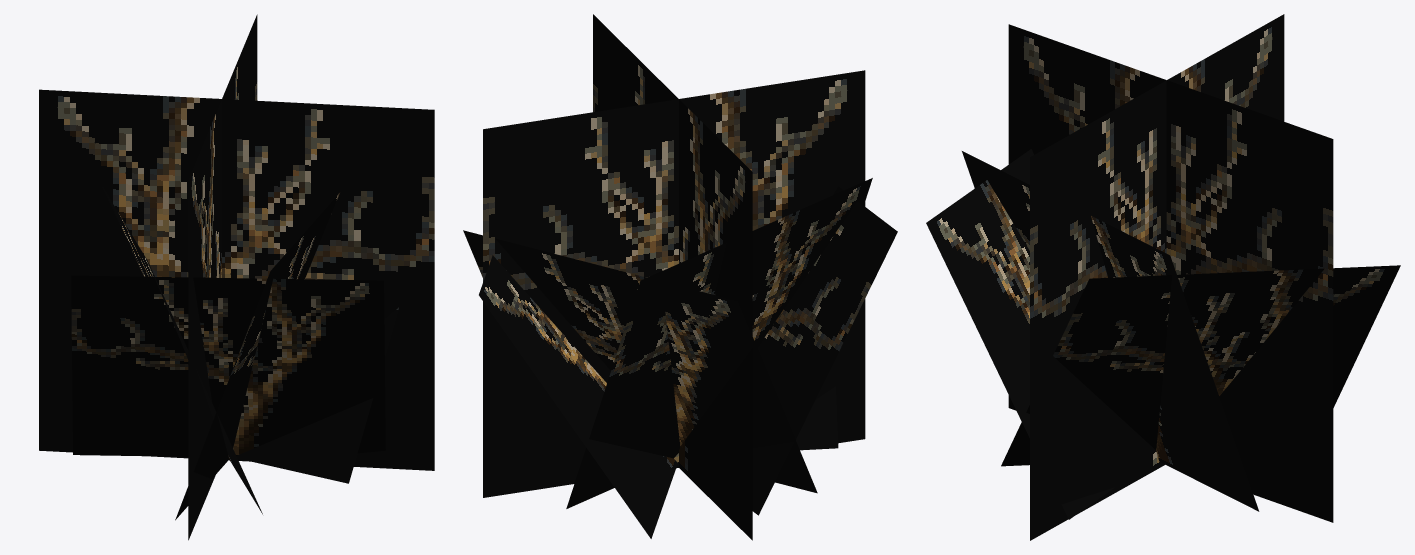
Rendered from sbushnak_0.obj.
The picture shows the model from 3 angles, left to right: view 1: azimuth 30°, elevation 25°; view 2: azimuth 150°, elevation 25°; view 3: azimuth 270°, elevation 25°; orthographic projection. The views are drawn at different scales.
Parts seen in each view (by area): view 1: sbushnak_0; view 2: sbushnak_0; view 3: sbushnak_0.
Boxes of the visible parts, x1,y1,x2,y2 form: sbushnak_0: (39,14,434,540); sbushnak_0: (463,14,897,540); sbushnak_0: (926,14,1400,540).
Bounding box in the file's own units: 1.71 × 1.69 × 1.85.
